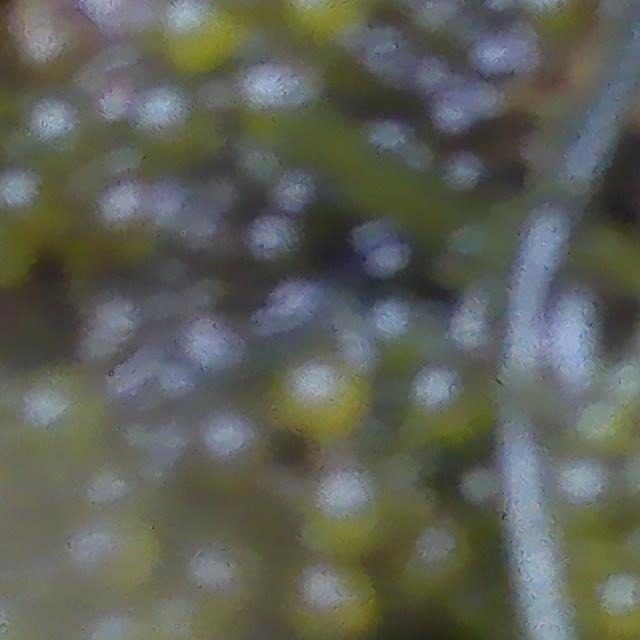SeaGrape: (290, 555, 371, 640), (286, 365, 370, 444), (242, 64, 317, 148), (86, 526, 166, 599), (317, 470, 389, 551), (200, 414, 272, 495), (189, 536, 256, 611), (417, 363, 486, 433), (166, 2, 235, 68), (419, 516, 477, 592), (45, 388, 100, 458), (577, 399, 635, 455), (300, 0, 366, 41)
